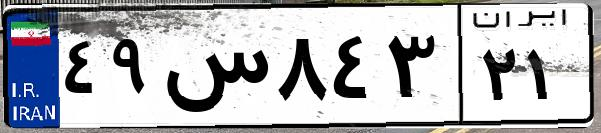1: (525, 38, 570, 115)
2: (475, 38, 525, 113)
3: (385, 28, 445, 110)
4: (330, 28, 385, 110), (57, 26, 110, 100)
8: (270, 28, 330, 110)
9: (110, 28, 158, 98)
س: (158, 20, 270, 120)
